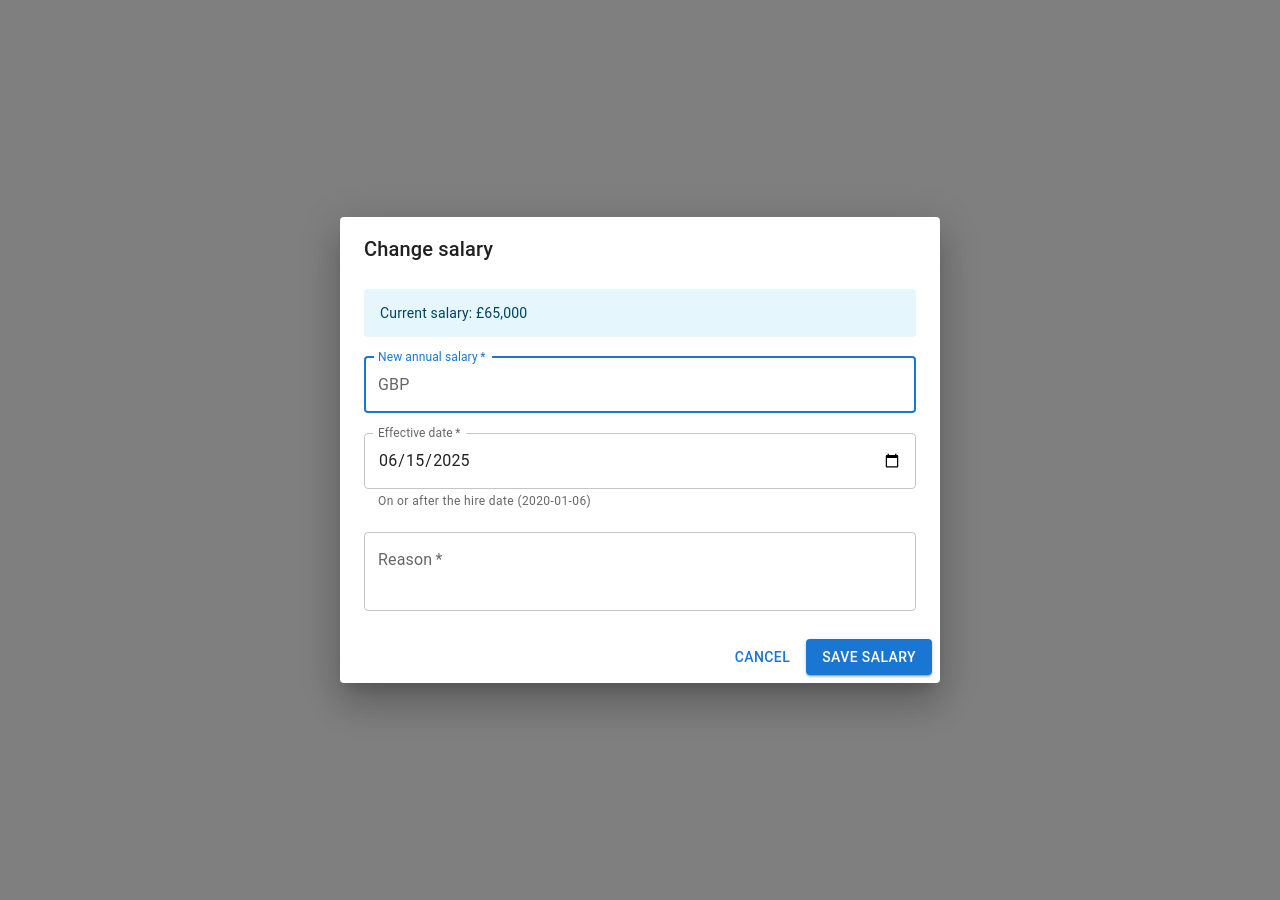
SalaryChangeDialog › shows API validation messages next to the right field
In the field labelled "New annual salary *": (667, 385) [417,357,916,413], type "70000"
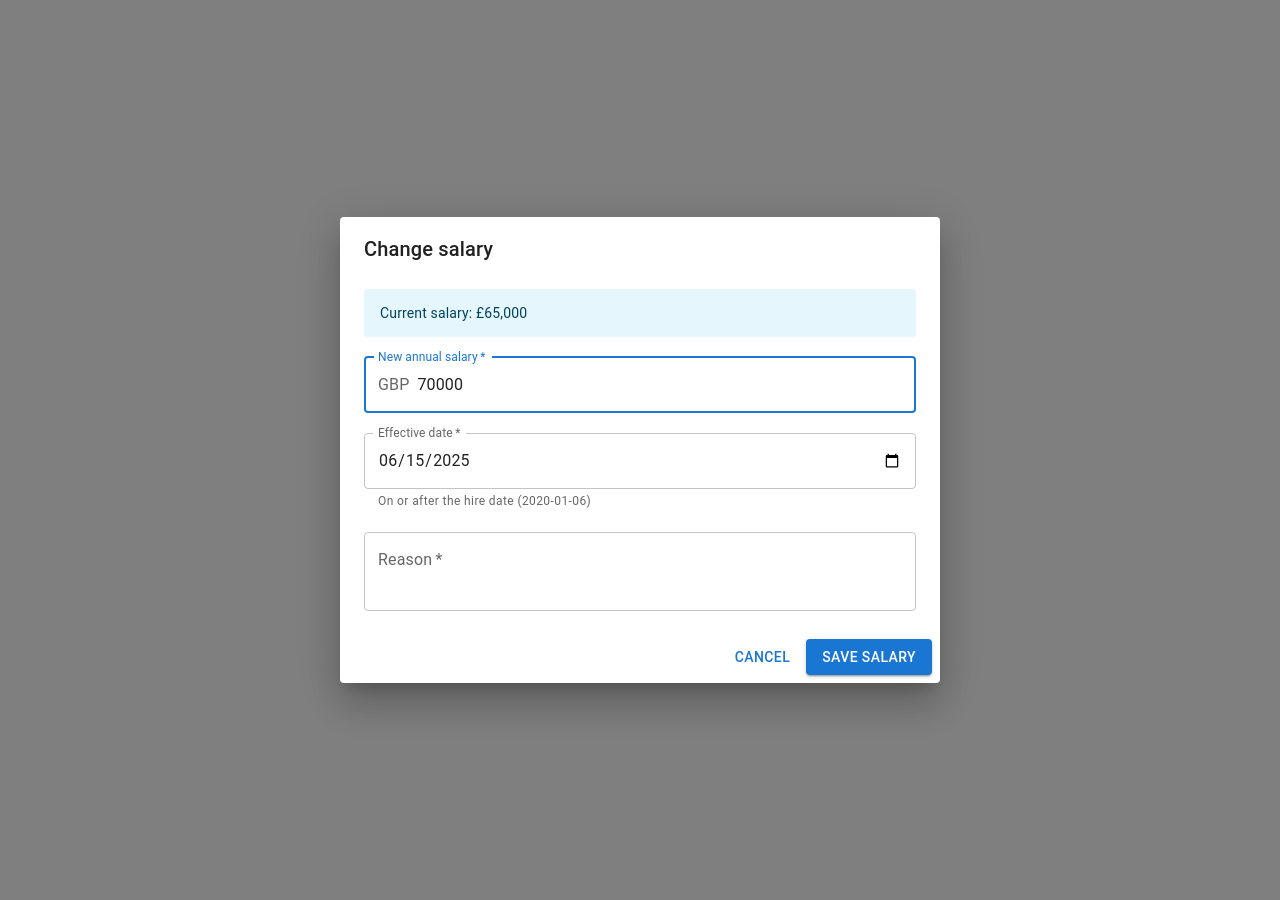
In the text box labelled "Reason *": (640, 571) [378,548,902,594], type "Promotion"
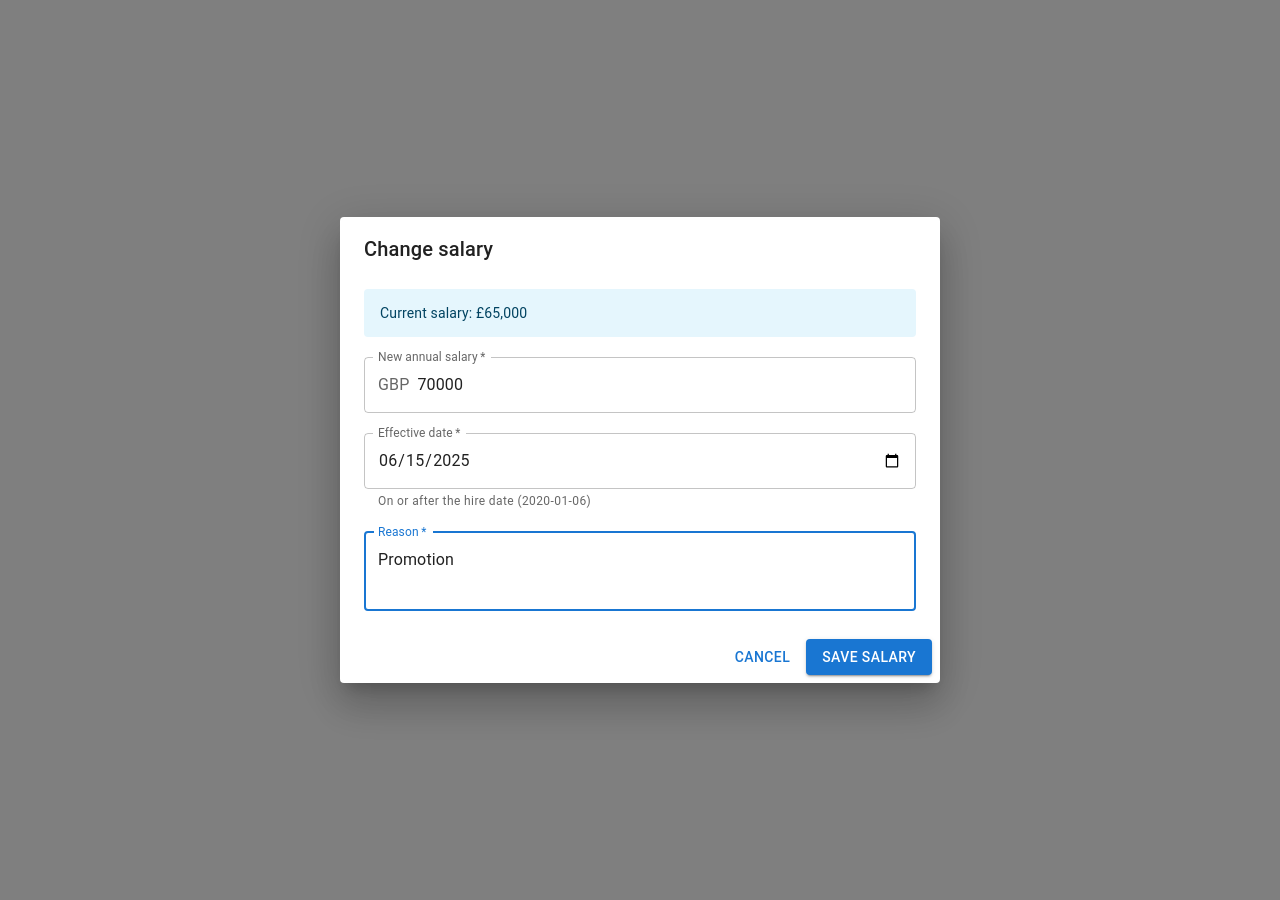
Click the button "Save salary": (869, 657) [806,639,932,675]
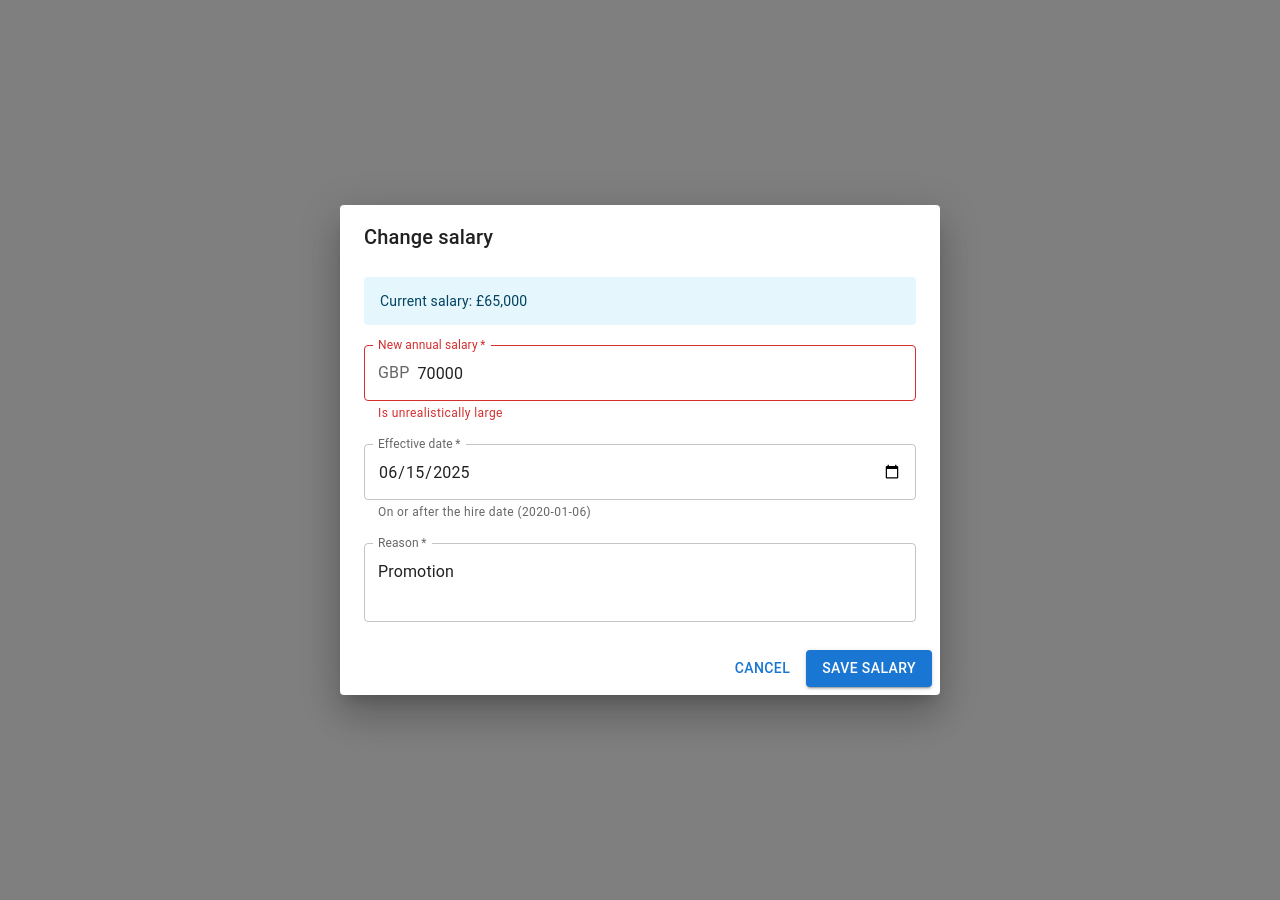
Expected: the text "Is unrealistically large" is shown, [378,406,503,420]
